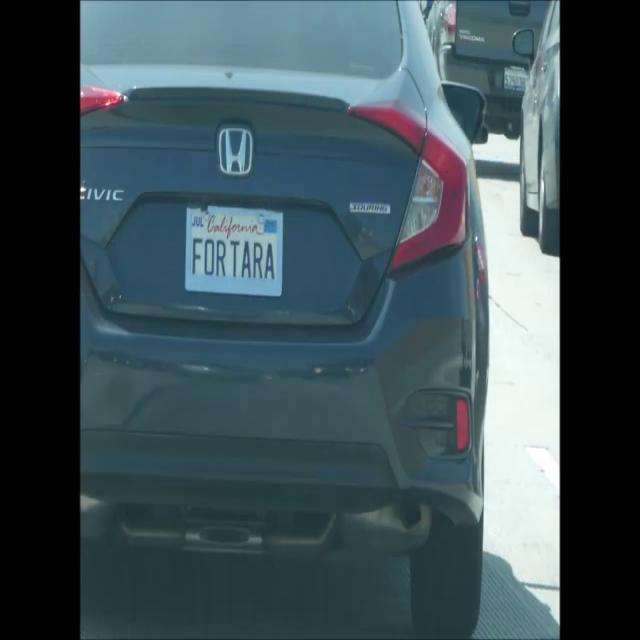licenseplate: (186, 201, 284, 295), (504, 62, 528, 90)
